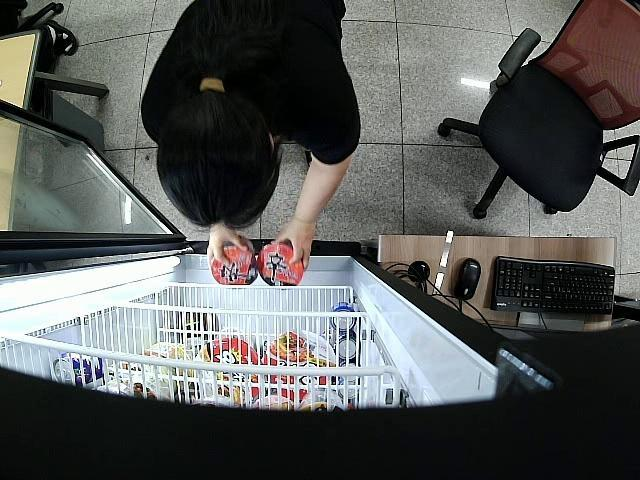01_ShinRamen_L: (210, 236, 258, 286), (258, 240, 304, 286)
